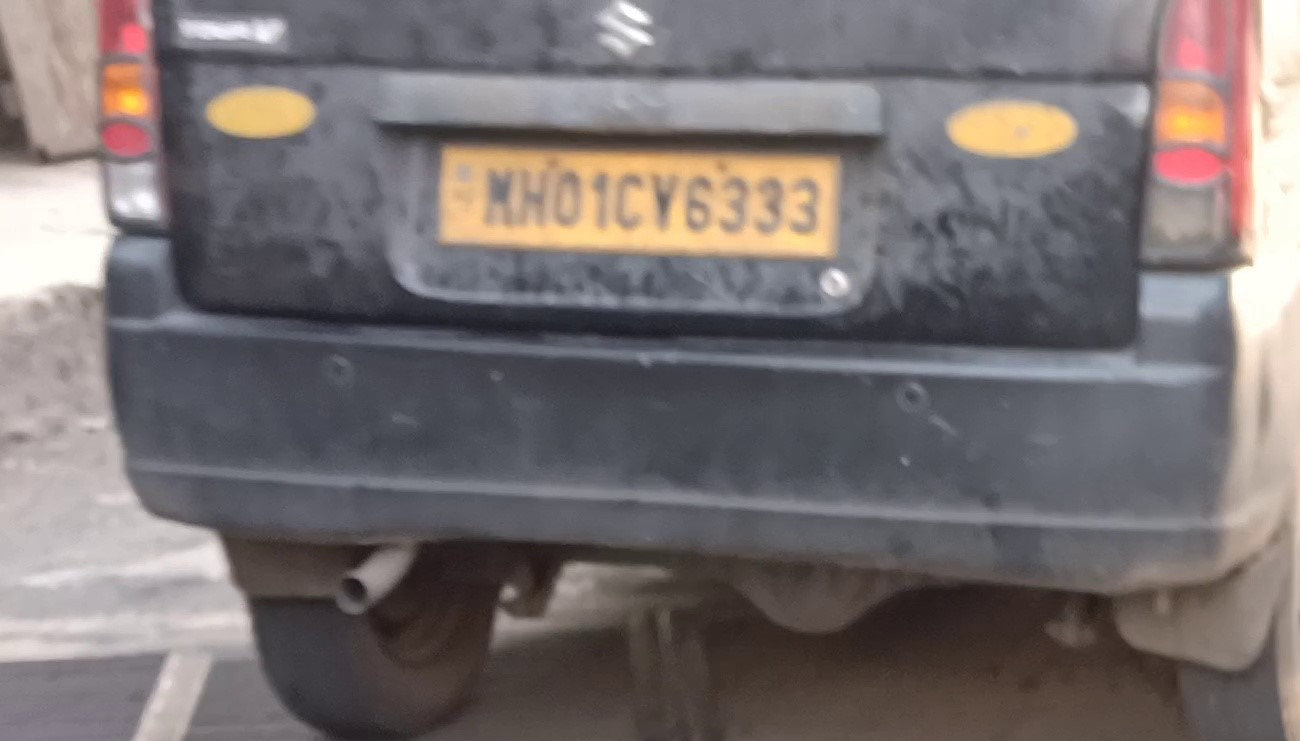MH01CV6333: (435, 140, 840, 261)
